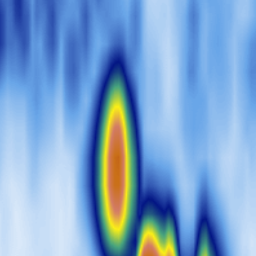defect: (88, 39, 144, 256), (195, 193, 220, 256), (140, 180, 159, 256), (160, 191, 176, 256), (11, 1, 26, 30)
